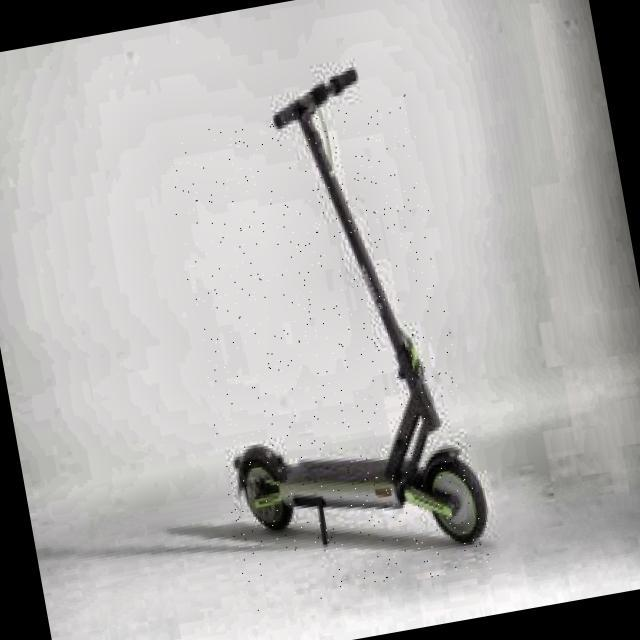bike: (231, 67, 489, 546)
car: (232, 68, 490, 546)
